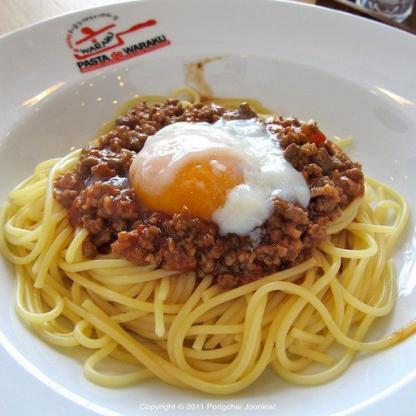egg: (122, 110, 306, 252)
pasta: (0, 89, 411, 395)
